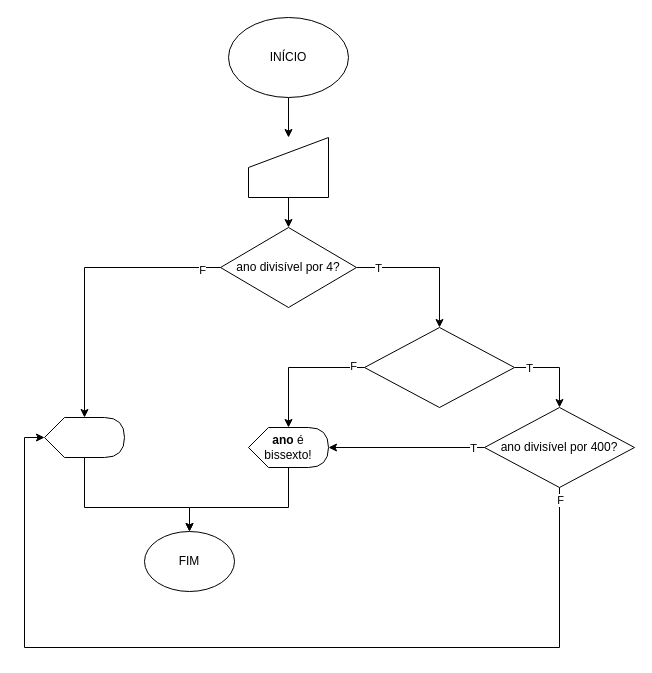
Image size: 652x673. Some labels were removed from this diagram. The centre of each missing label's shape, as x and y in pixels:
ano: the point at 288,167
ano divisível por 100?: the point at 439,367
ano não é bissexto!: the point at 84,437
